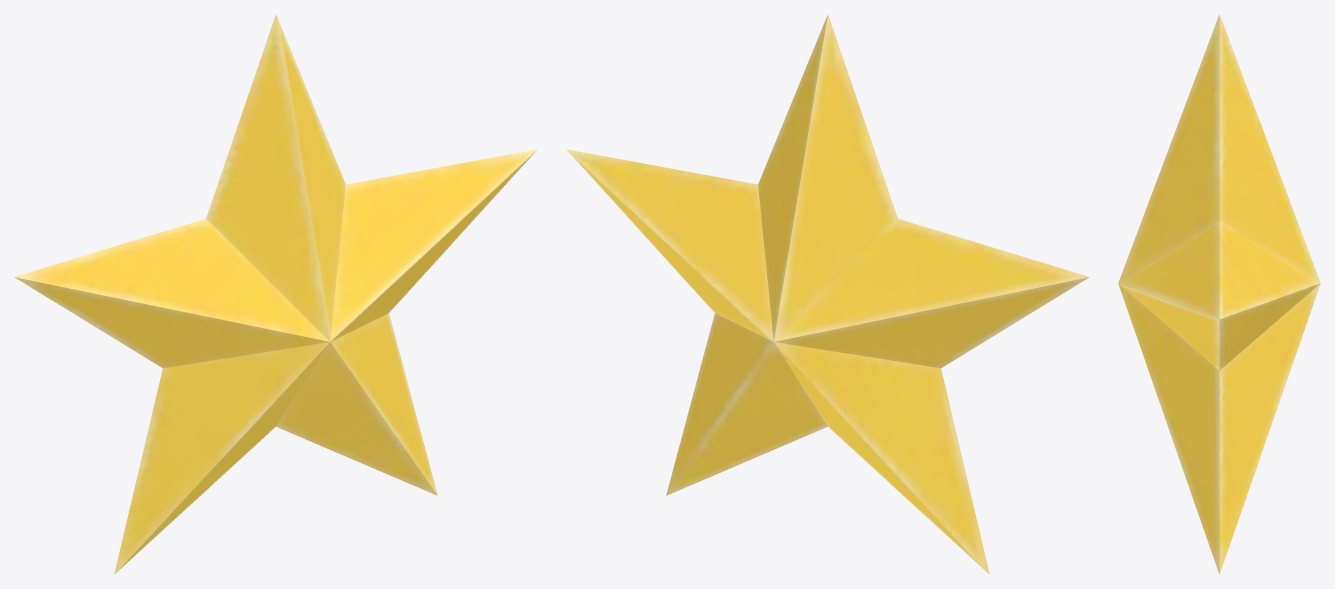
Rendered from star.glb.
3 views of the same model, side by side, from view 1: azimuth 30°, elevation 25°; view 2: azimuth 150°, elevation 25°; view 3: azimuth 270°, elevation 25° (orthographic). The views are drawn at different scales.
Parts seen in each view (by area): view 1: Star; view 2: Star; view 3: Star.
Boxes of the visible parts, bbox=[...] form: Star: bbox=[14, 14, 537, 574]; Star: bbox=[566, 14, 1089, 574]; Star: bbox=[1118, 14, 1320, 574].
Size of the model in its own units: 0.4185 by 0.398 by 0.15.
Materials: 1 (1 with a texture image).
